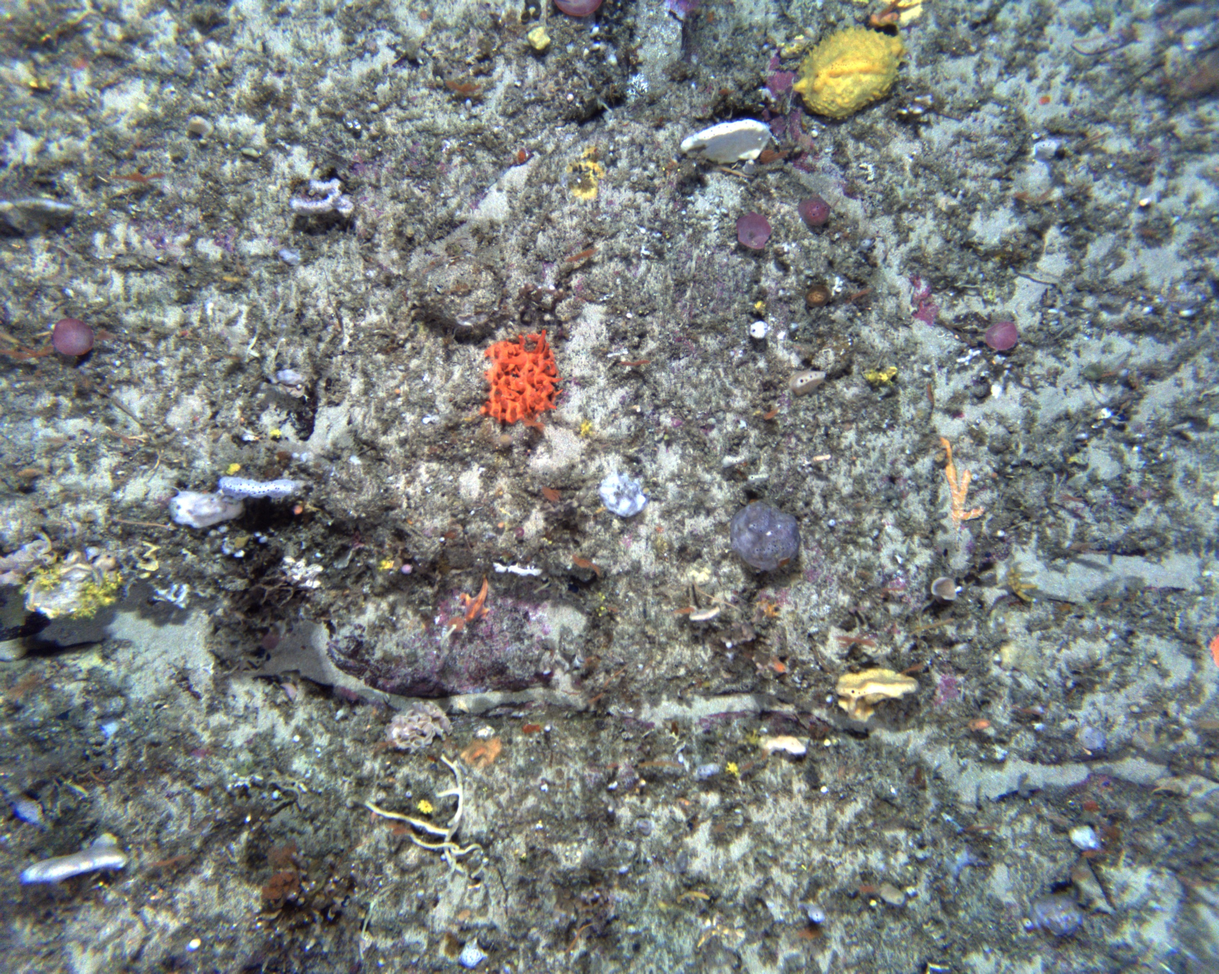Brachionichthyidae: (459, 566, 493, 624)
